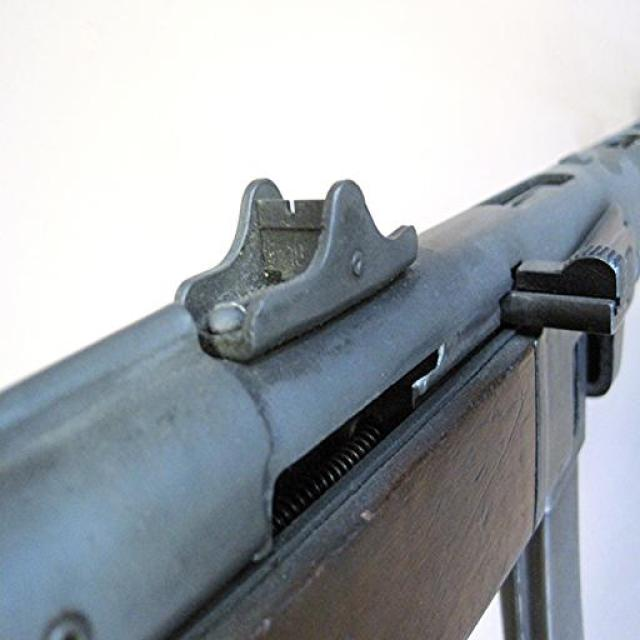pistol: (1, 119, 640, 638)
